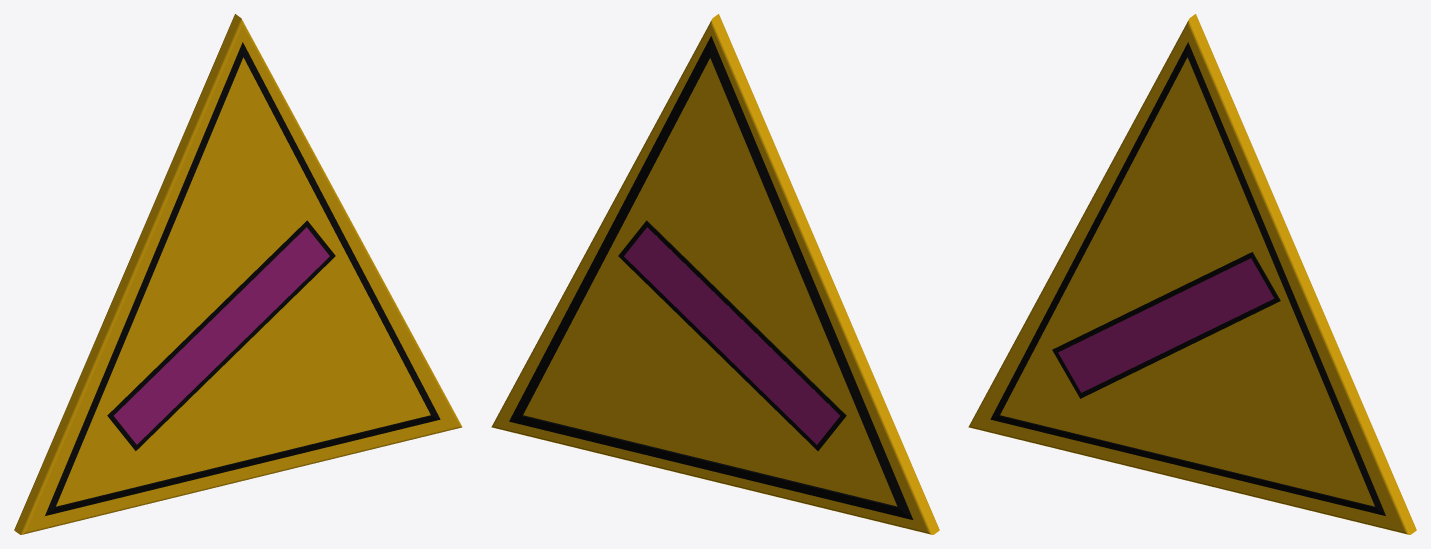
File: Triangle_DiagonalLine.fbx
3 views of the same model, side by side, from view 1: azimuth 30°, elevation 25°; view 2: azimuth 150°, elevation 25°; view 3: azimuth 330°, elevation 25° (orthographic).
Parts seen in each view (by area): view 1: outer_TriangleDiagonal; view 2: outer_TriangleDiagonal; view 3: outer_TriangleDiagonal.
Part boxes in pixels (box(x1,y1,x2,y2)): outer_TriangleDiagonal: box(14, 14, 462, 534); outer_TriangleDiagonal: box(491, 14, 939, 534); outer_TriangleDiagonal: box(968, 14, 1416, 534).
Bounding box in the file's own units: 150 × 150 × 6.38.
4 materials, 4 textured.
